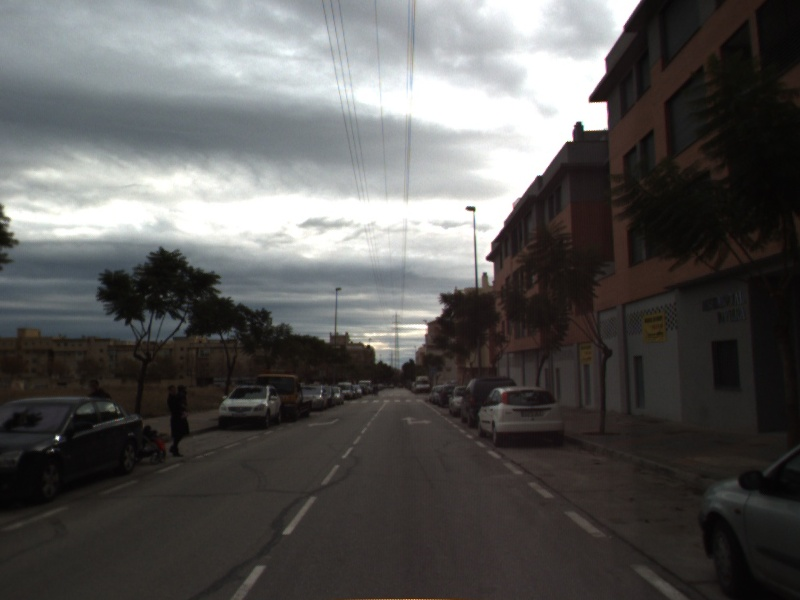STRAIGHT_RIGHT: (399, 414, 434, 427)
